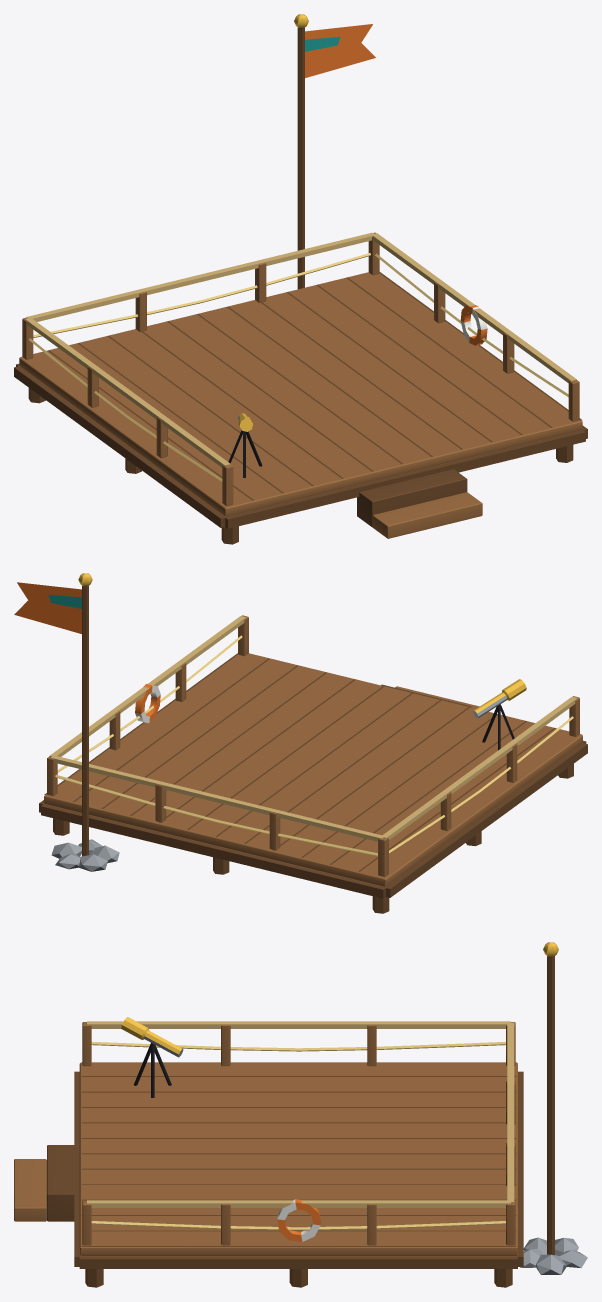
File: Mirador.fbx
3 renders of one model, top to bottom at view 1: azimuth 30°, elevation 25°; view 2: azimuth 150°, elevation 25°; view 3: azimuth 270°, elevation 25°, orthographic. The views are drawn at different scales.
Visible parts, largest first — view 1: Mirador; view 2: Mirador; view 3: Mirador.
Part boxes in pixels (x1,y1,x2,y2): Mirador: (14,14,587,544); Mirador: (14,573,587,913); Mirador: (14,942,587,1287).
Bounding box in the file's own units: 12.65 × 9.57 × 15.71.
Materials: 1 (1 with a texture image).
